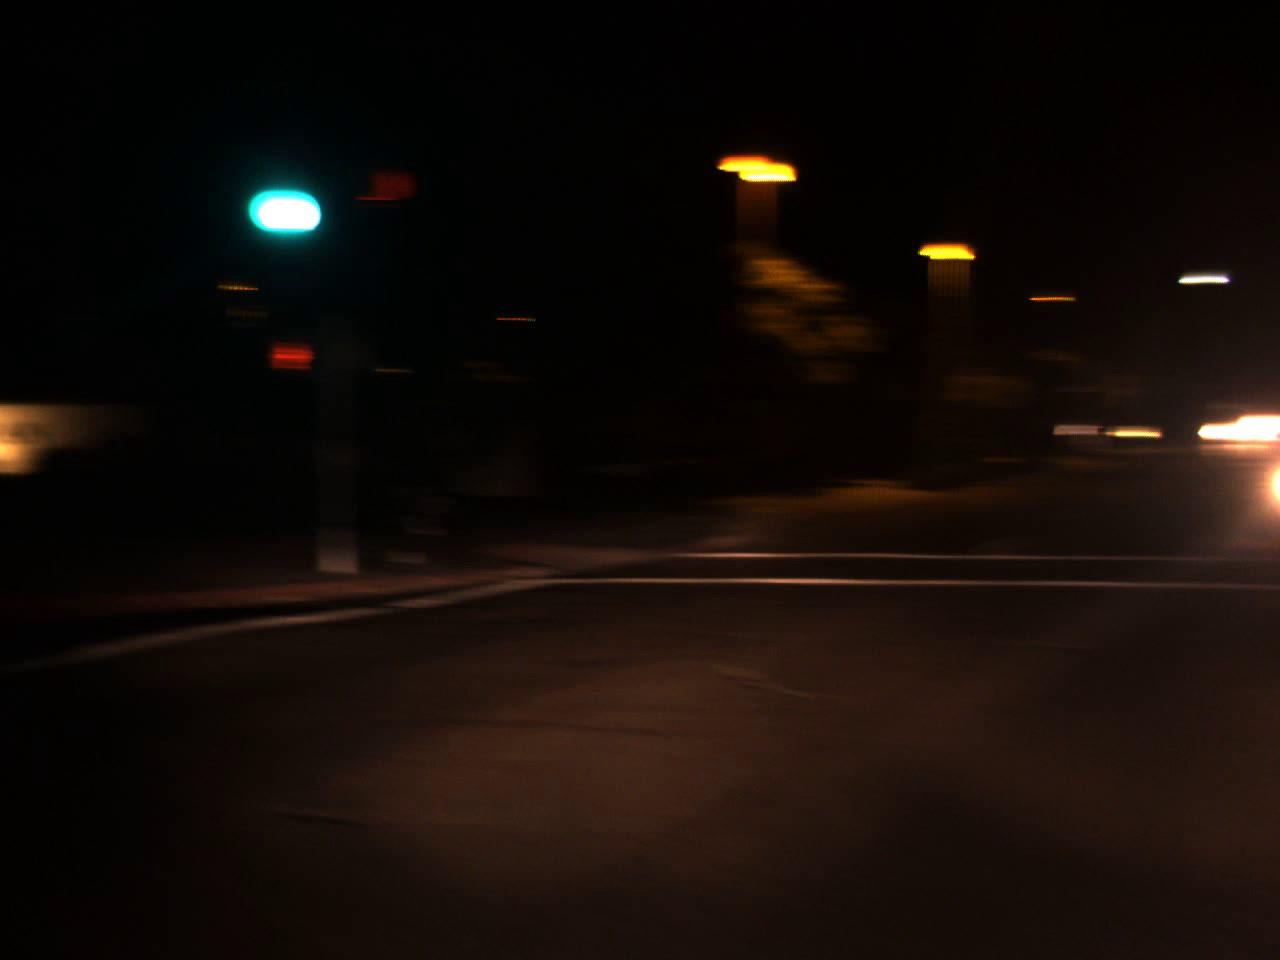go: (244, 144, 321, 246)
